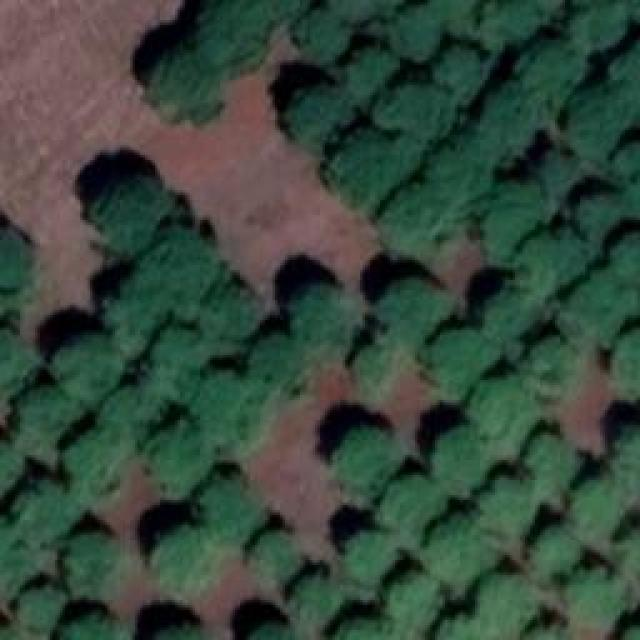Tree: (127, 223, 221, 320), (88, 160, 177, 258), (473, 178, 546, 271), (190, 360, 272, 442), (420, 515, 501, 595), (327, 130, 409, 206), (468, 377, 541, 462), (423, 130, 499, 210), (515, 215, 585, 300), (333, 428, 407, 508), (140, 415, 210, 499), (372, 77, 456, 146), (190, 470, 269, 542), (140, 325, 210, 406), (53, 335, 126, 408), (150, 528, 222, 602), (100, 285, 167, 363), (378, 475, 448, 548), (10, 380, 75, 455), (557, 278, 629, 345), (515, 48, 579, 123), (563, 90, 631, 160), (375, 195, 449, 258), (478, 88, 540, 163), (441, 0, 554, 41), (285, 85, 354, 151), (98, 383, 160, 455), (58, 425, 119, 497), (433, 425, 493, 497), (423, 325, 490, 389), (150, 58, 217, 122), (565, 477, 626, 547), (382, 280, 452, 341), (193, 15, 266, 72), (18, 483, 80, 549), (525, 433, 581, 505), (340, 45, 398, 113), (385, 568, 443, 634), (475, 478, 537, 539), (473, 570, 533, 633), (560, 563, 624, 622), (65, 533, 121, 600), (478, 290, 540, 350), (242, 330, 301, 393), (292, 280, 351, 342), (560, 2, 639, 47), (290, 575, 345, 638), (0, 330, 38, 418), (523, 335, 587, 387), (202, 283, 261, 339), (388, 2, 444, 61), (435, 48, 490, 108), (343, 532, 398, 587), (0, 228, 31, 324), (350, 342, 400, 401), (575, 193, 622, 254), (290, 10, 348, 57), (253, 530, 304, 583), (533, 528, 583, 581), (533, 155, 582, 207), (325, 0, 398, 34), (610, 143, 640, 220), (18, 585, 67, 632), (202, 0, 314, 20), (428, 610, 501, 640), (610, 50, 640, 118), (607, 235, 640, 295), (0, 518, 25, 593), (615, 425, 640, 498), (615, 328, 640, 398), (53, 615, 120, 640), (617, 527, 639, 598), (515, 615, 568, 640), (333, 620, 398, 640), (3, 444, 27, 498), (132, 623, 202, 640), (247, 623, 295, 640), (617, 625, 640, 640), (3, 615, 16, 640)
